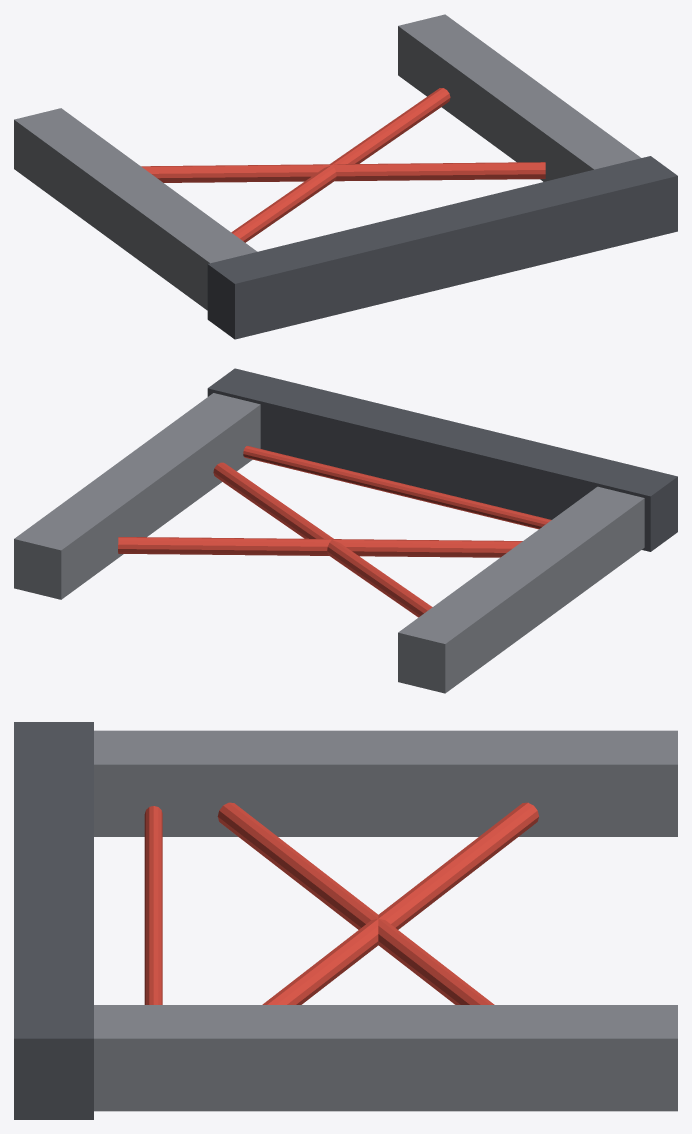
Rendered from obstacle_laser_gate.glb.
The picture shows the model from 3 angles, top to bottom: view 1: azimuth 30°, elevation 25°; view 2: azimuth 150°, elevation 25°; view 3: azimuth 270°, elevation 25°; orthographic projection. The views are drawn at different scales.
Parts seen in each view (by area): view 1: top, post_l, post_r, laser1, laser2; view 2: top, post_l, post_r, laser2, laser1, laser_top; view 3: post_r, post_l, top, laser1, laser2, laser_top.
Boxes of the visible parts, x1,y1,x2,y2 form: top: [207, 156, 677, 339]; post_l: [14, 108, 257, 310]; post_r: [398, 14, 640, 181]; laser1: [141, 162, 545, 182]; laser2: [231, 88, 450, 242]; top: [207, 368, 677, 551]; post_l: [398, 486, 644, 693]; post_r: [14, 393, 260, 599]; laser2: [118, 537, 522, 557]; laser1: [213, 462, 432, 617]; laser_top: [243, 446, 551, 529]; post_r: [94, 1005, 677, 1111]; post_l: [94, 730, 677, 836]; top: [14, 722, 93, 1119]; laser1: [262, 802, 538, 1004]; laser2: [217, 802, 494, 1004]; laser_top: [144, 806, 162, 1004].
Size of the model in its own units: 1.5 by 0.18 by 1.33.
